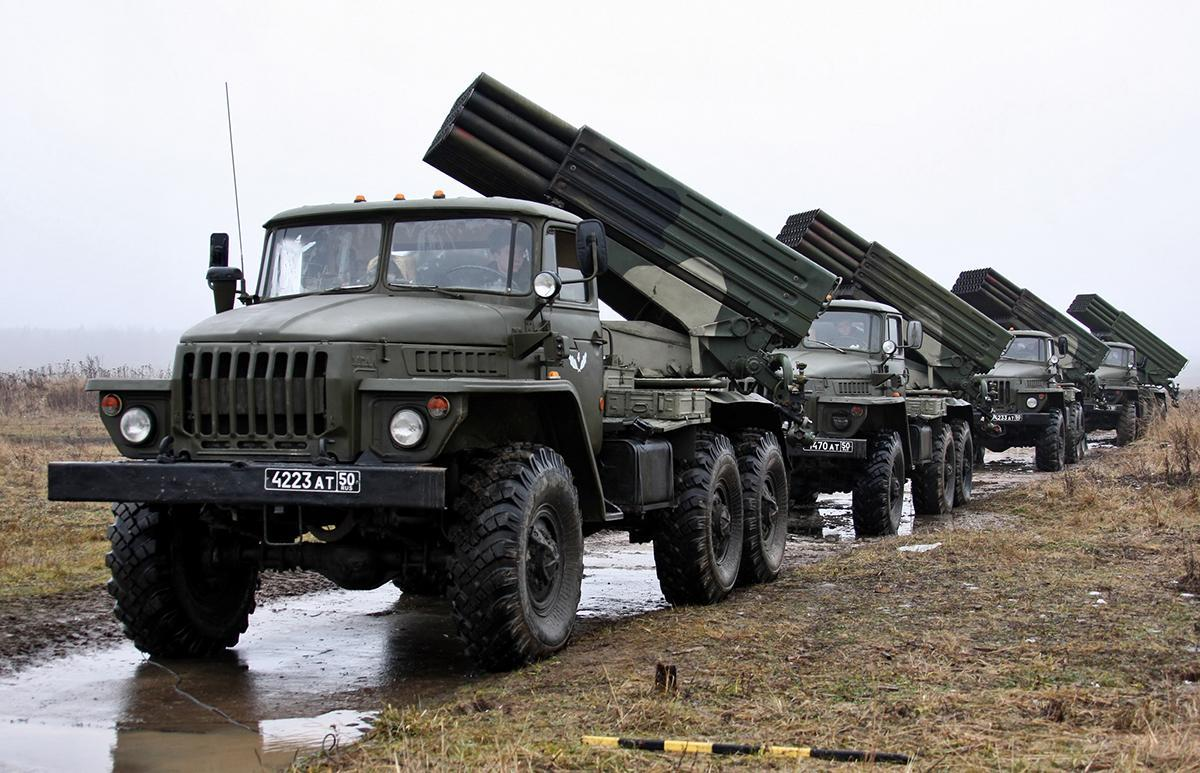rszo: (120, 81, 819, 654), (772, 197, 1009, 540), (954, 245, 1102, 497), (1066, 271, 1190, 461)
